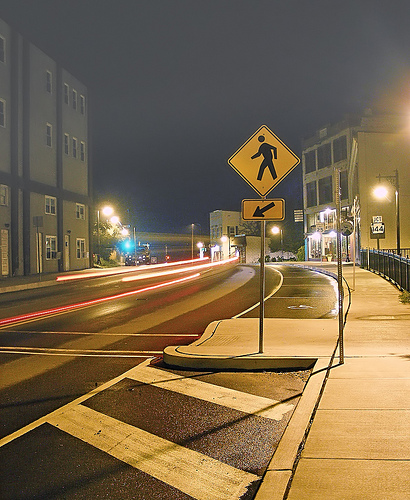CrossSign: (226, 125, 302, 199)
